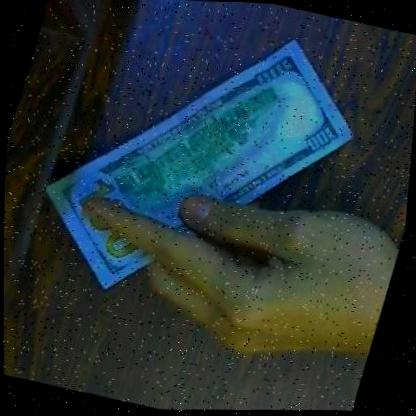one_hundred-back: (7, 0, 387, 345)
